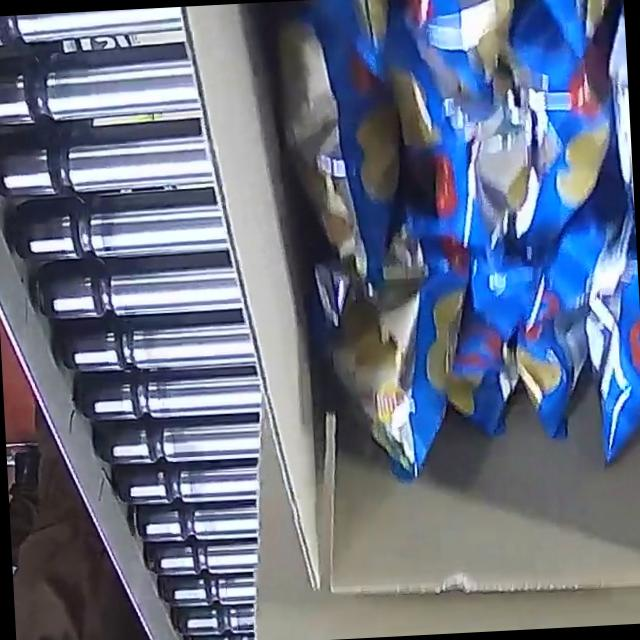paprika: (251, 0, 640, 494)
